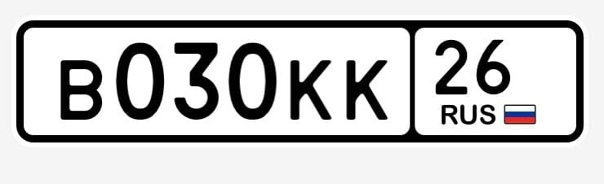number_plate: (24, 24, 575, 135)
